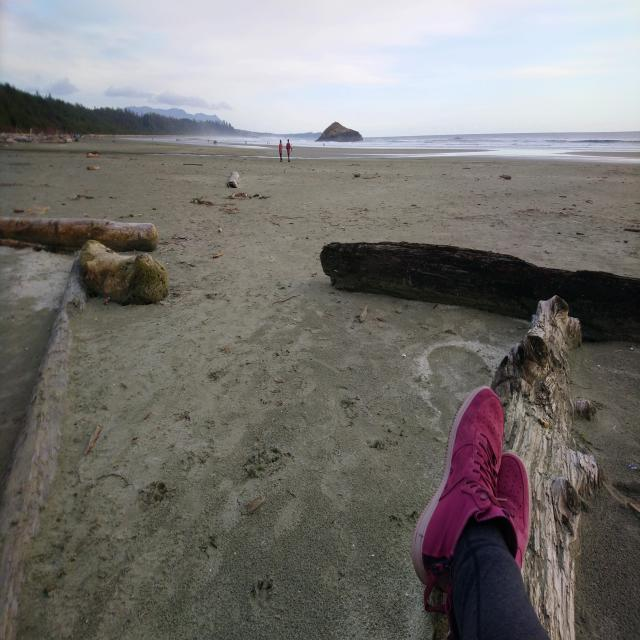shoe: (399, 390, 506, 583), (499, 452, 534, 575)
